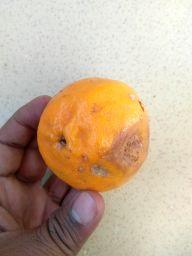Unripe: (37, 77, 150, 191)
